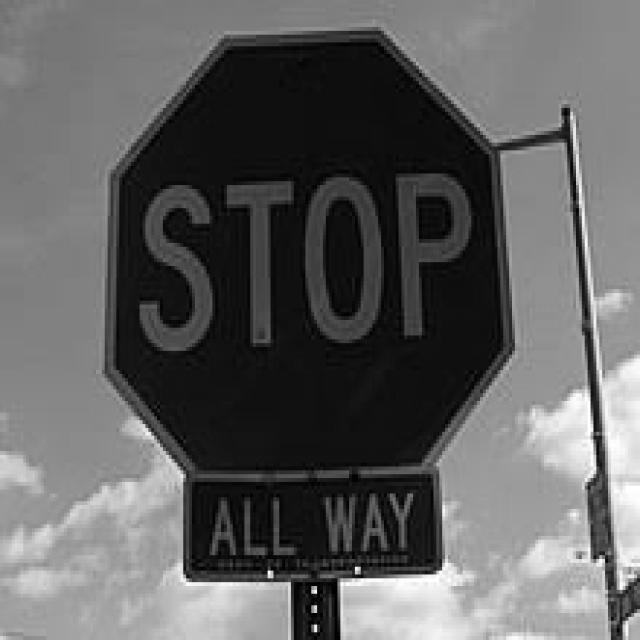stop sign: (100, 32, 509, 579)
